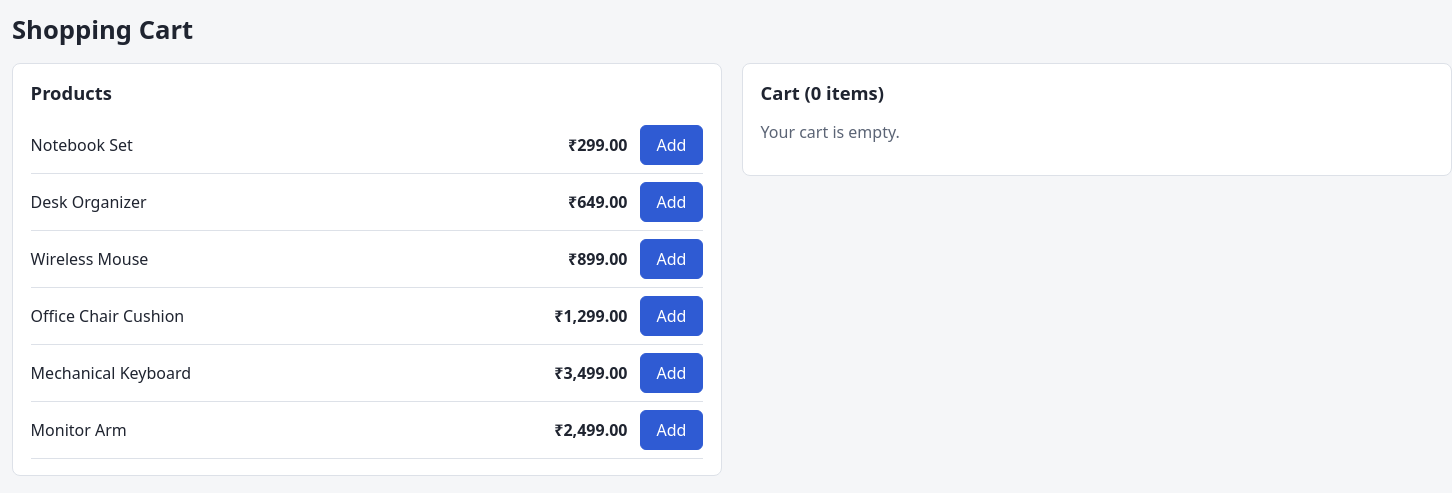
it: Shopping cart › adds, increases, decreases and removes products
Click the button with aria-label "Add Notebook Set" at coordinates (671, 145), box [640,125,703,165]
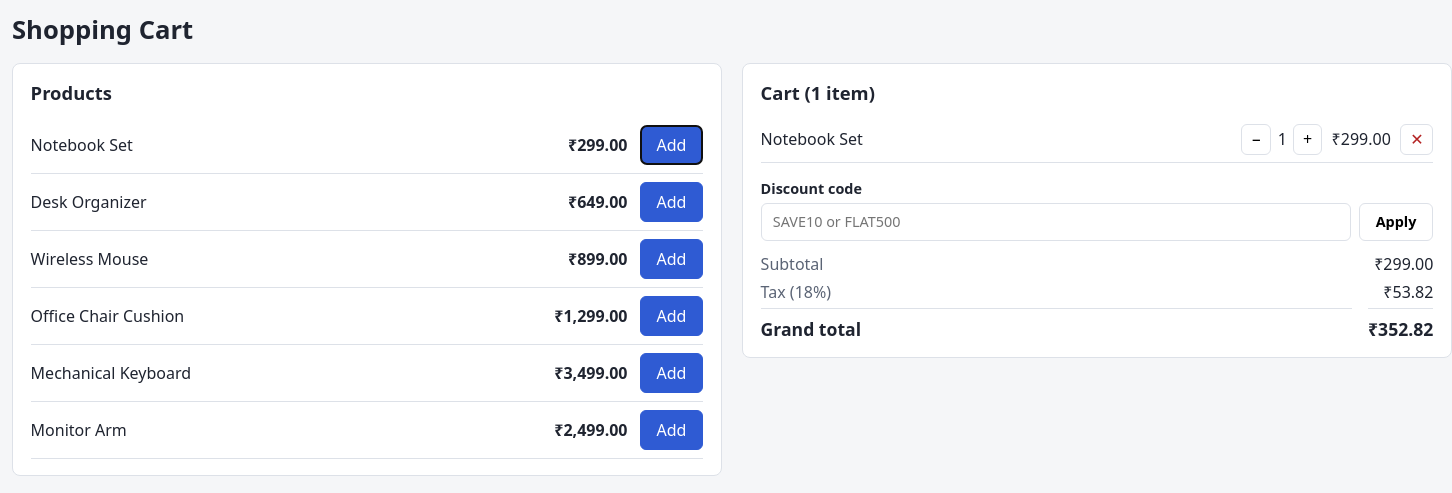
Click the button named "Increase Notebook Set" at coordinates (1308, 139), box [1293,124,1322,155]
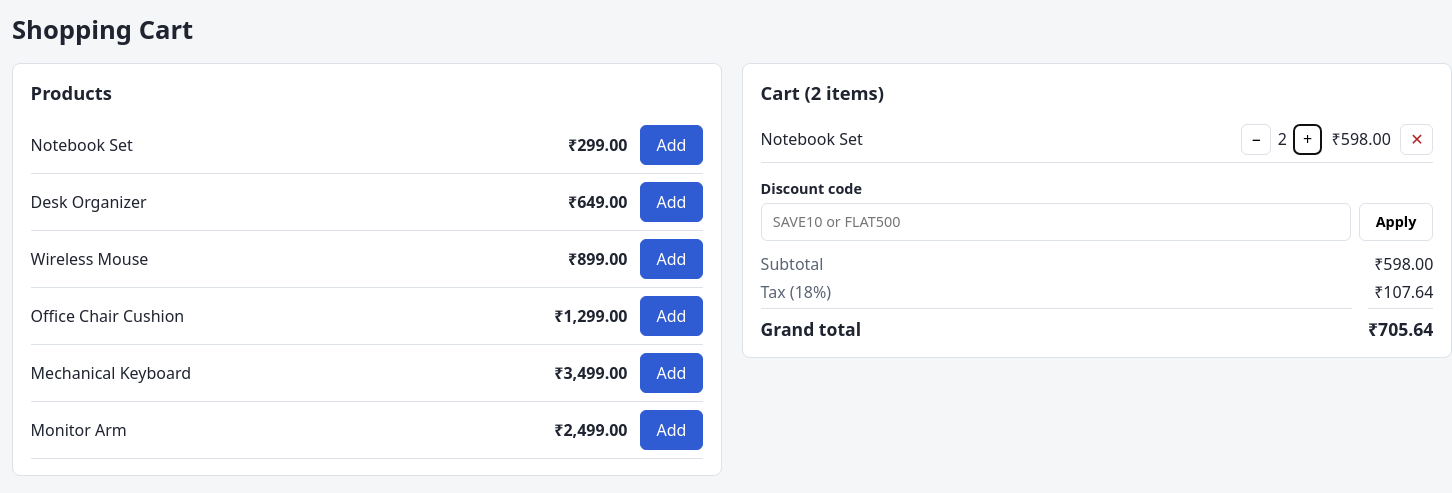
Click the button with aria-label "Add Wireless Mouse" at coordinates (671, 259), box [640,239,703,279]
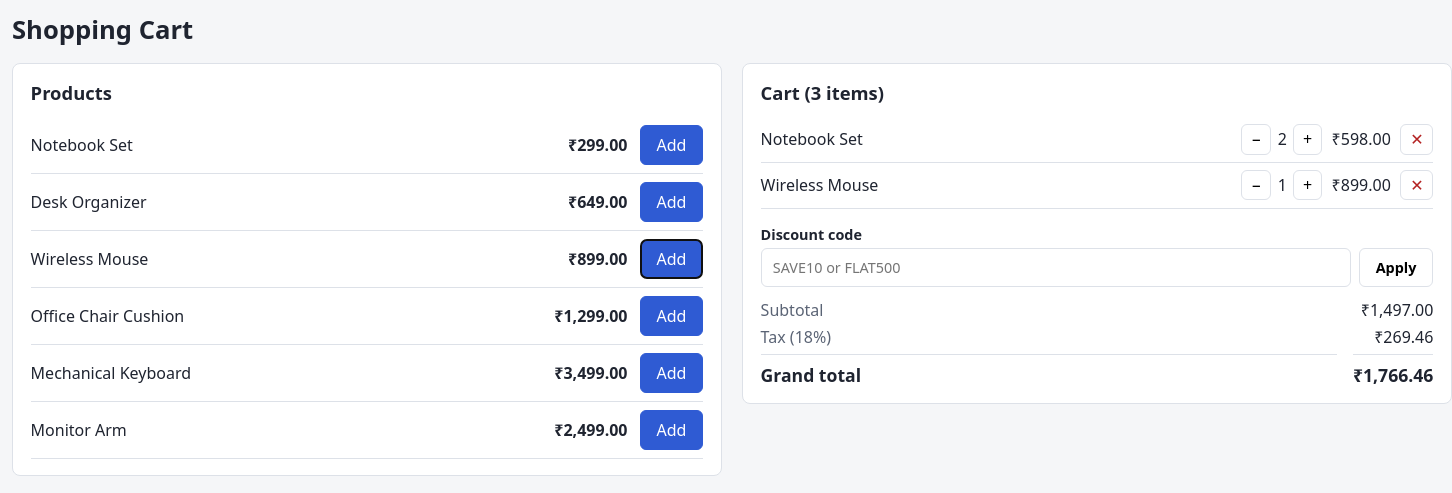
expect the text named "Quantity of Notebook Set" reads "2": met, box [1278,128,1287,150]
expect the heading "Cart (3 items)" is shown: met, box [761,80,884,105]
expect the text with test id "grand-total" reads "₹1,766.46": met, box [1353,363,1433,387]
Click the button named "Decrease Notebook Set" at coordinates (1256, 139), box [1241,124,1271,155]
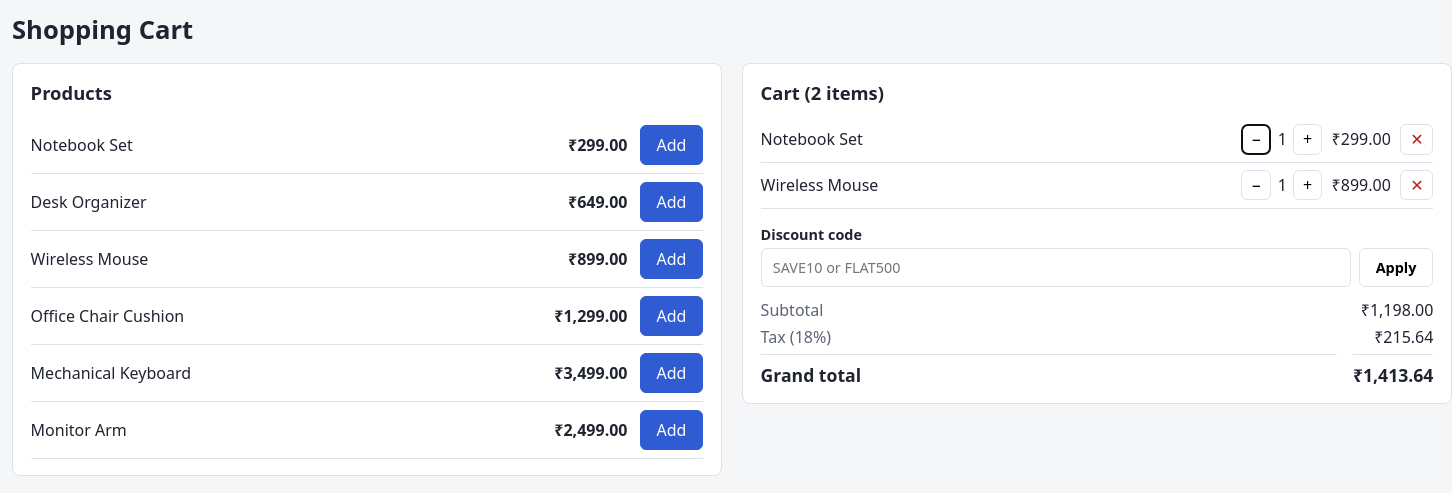
Click the button named "Decrease Notebook Set" at coordinates (1256, 139), box [1241,124,1271,155]
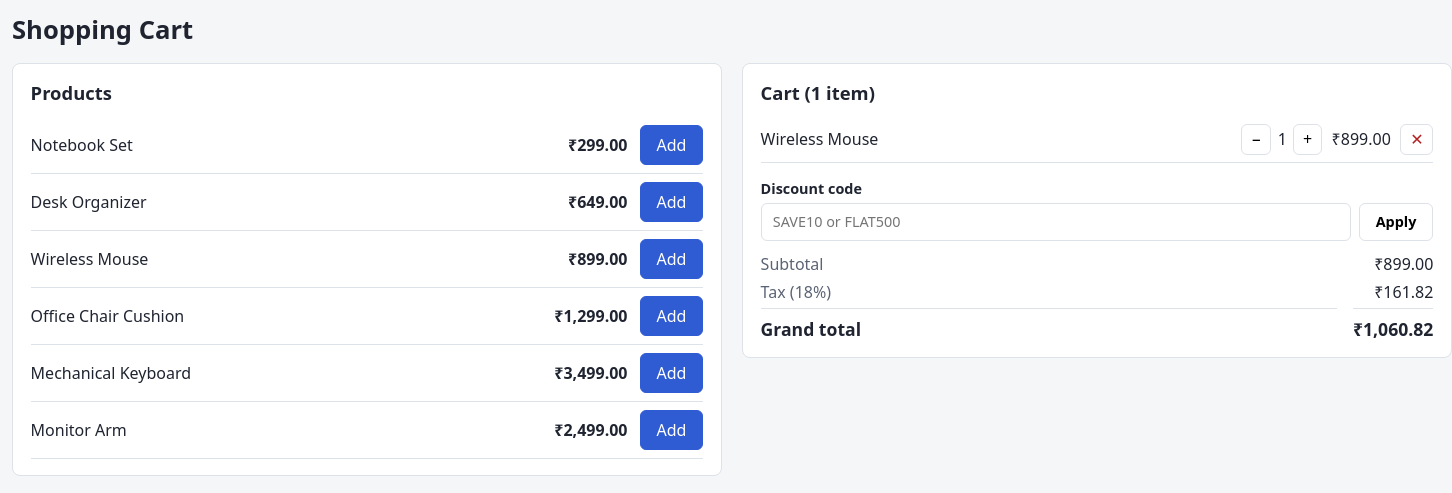
Click the button named "Remove Wireless Mouse" at coordinates (1417, 139), box [1400,124,1433,155]
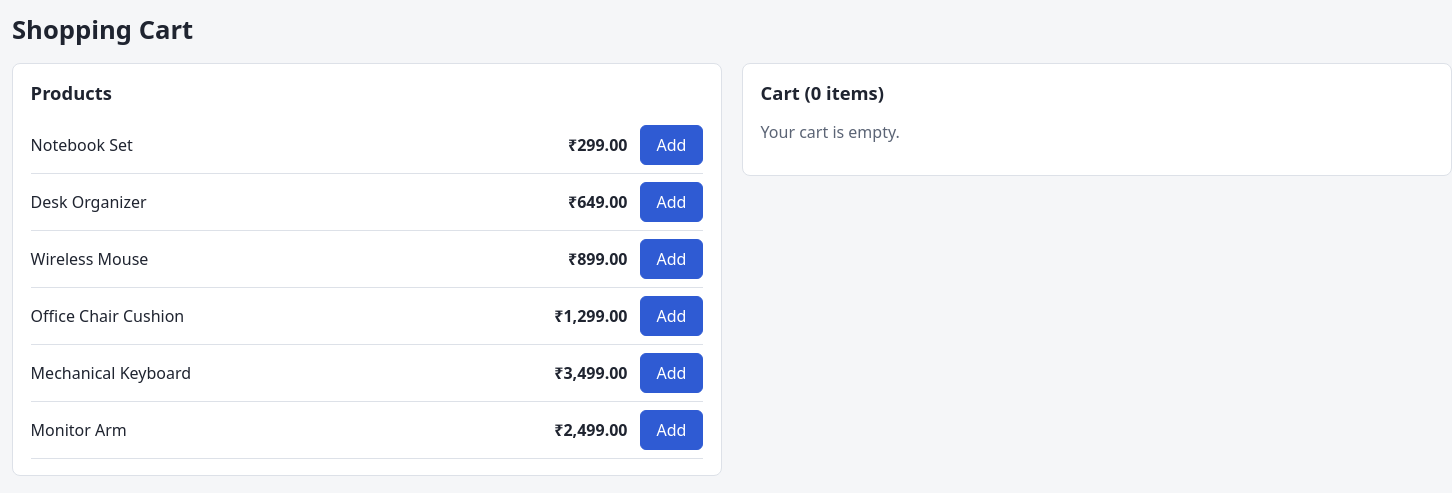
expect the text "Your cart is empty." is shown: met, box [761,121,900,143]
